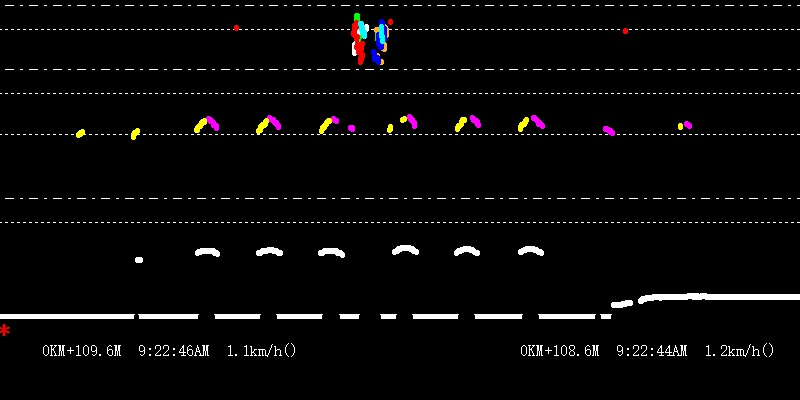J: (350, 3, 391, 64)
y_p: (182, 107, 551, 276)
